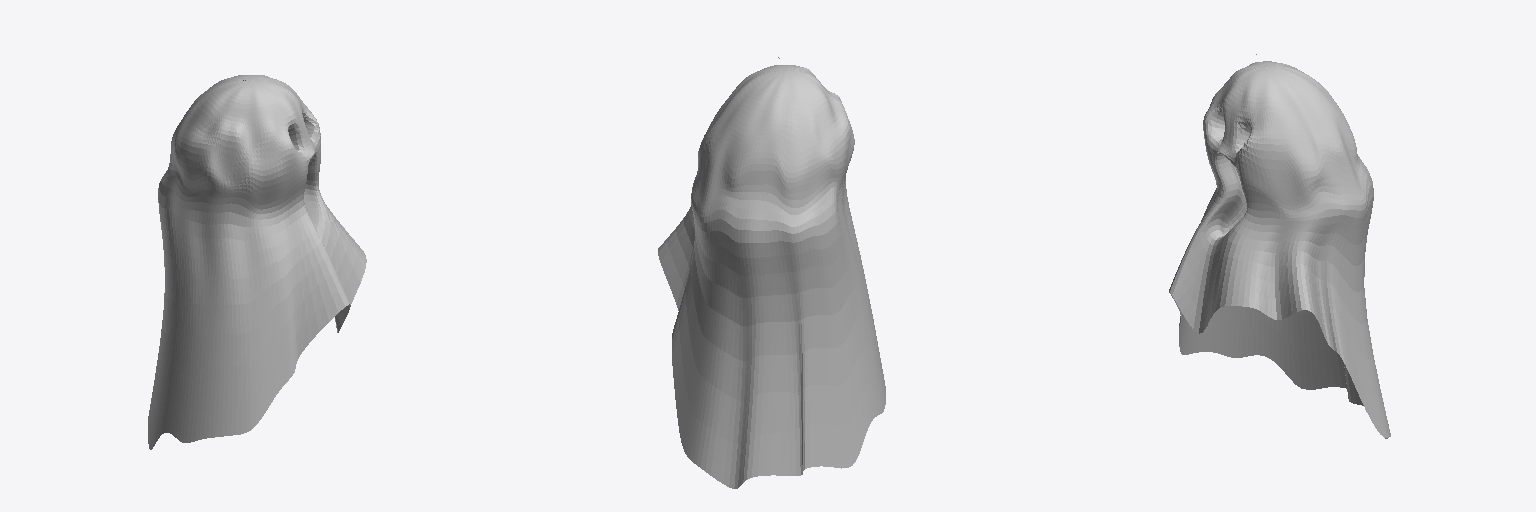
The model's file is ghost.obj.
The picture shows the model from 3 angles: view 1: azimuth 30°, elevation 25°; view 2: azimuth 150°, elevation 25°; view 3: azimuth 270°, elevation 25°; orthographic projection.
Visible parts, largest first — view 1: 球体; view 2: 球体; view 3: 球体.
Boxes of the visible parts, <box> form: 球体: <box>148,75,366,449</box>; 球体: <box>658,65,885,488</box>; 球体: <box>1169,61,1390,438</box>.
Size of the model in its own units: 8.63 by 16.22 by 8.58.